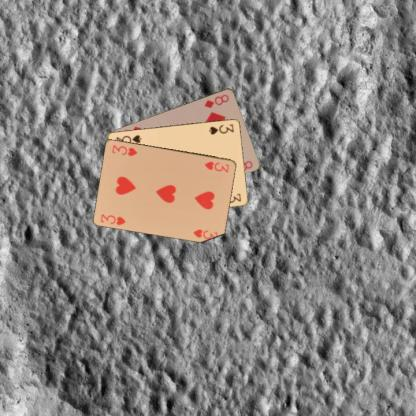3h: (202, 158, 231, 174), (98, 212, 127, 226)
3s: (206, 121, 235, 136)
8d: (202, 91, 230, 109)
